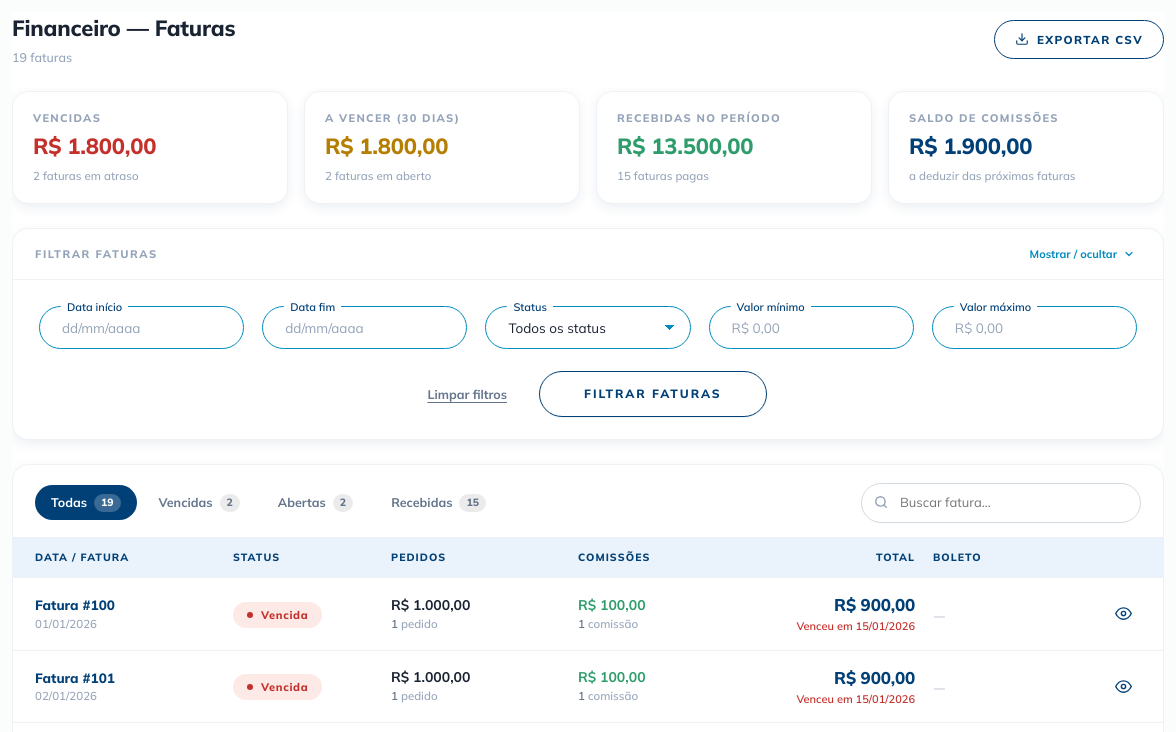
Test: FinanceiroListSection › tab Abertas exibe itens aberta e processando
Click the button "Abertas 2" at (315, 503), box [262, 485, 369, 520]
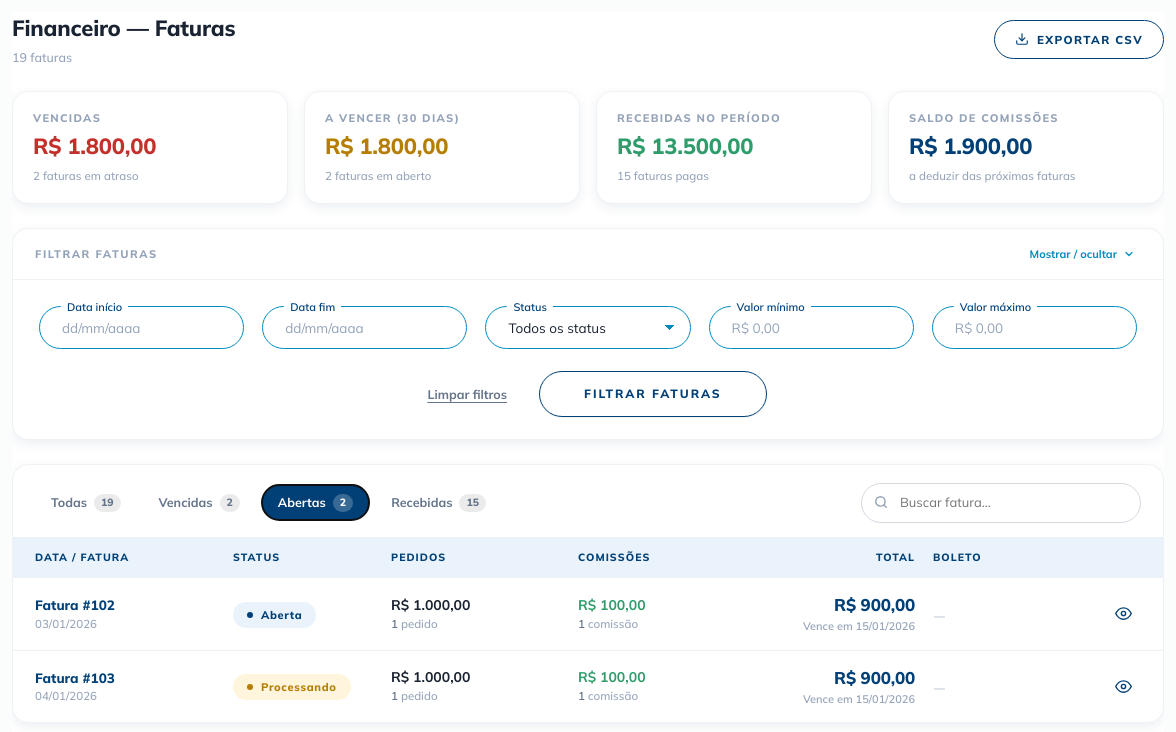
Expected: the text "Fatura #102" is shown, [35, 596, 115, 613]
Expected: the text "Fatura #100" is gone
